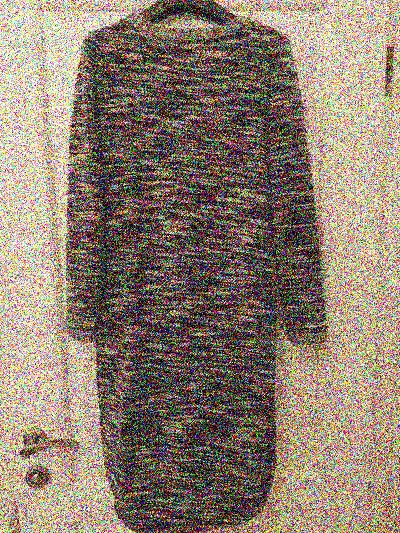Dress: (34, 7, 354, 523)
